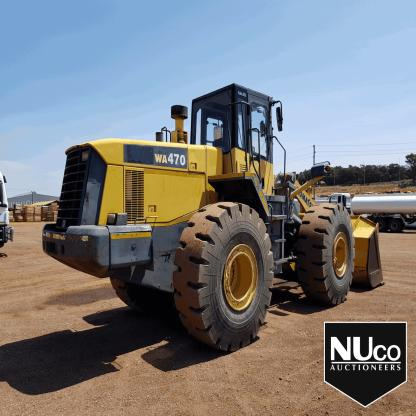bull_dozer/loader/grader: (43, 81, 385, 351)
